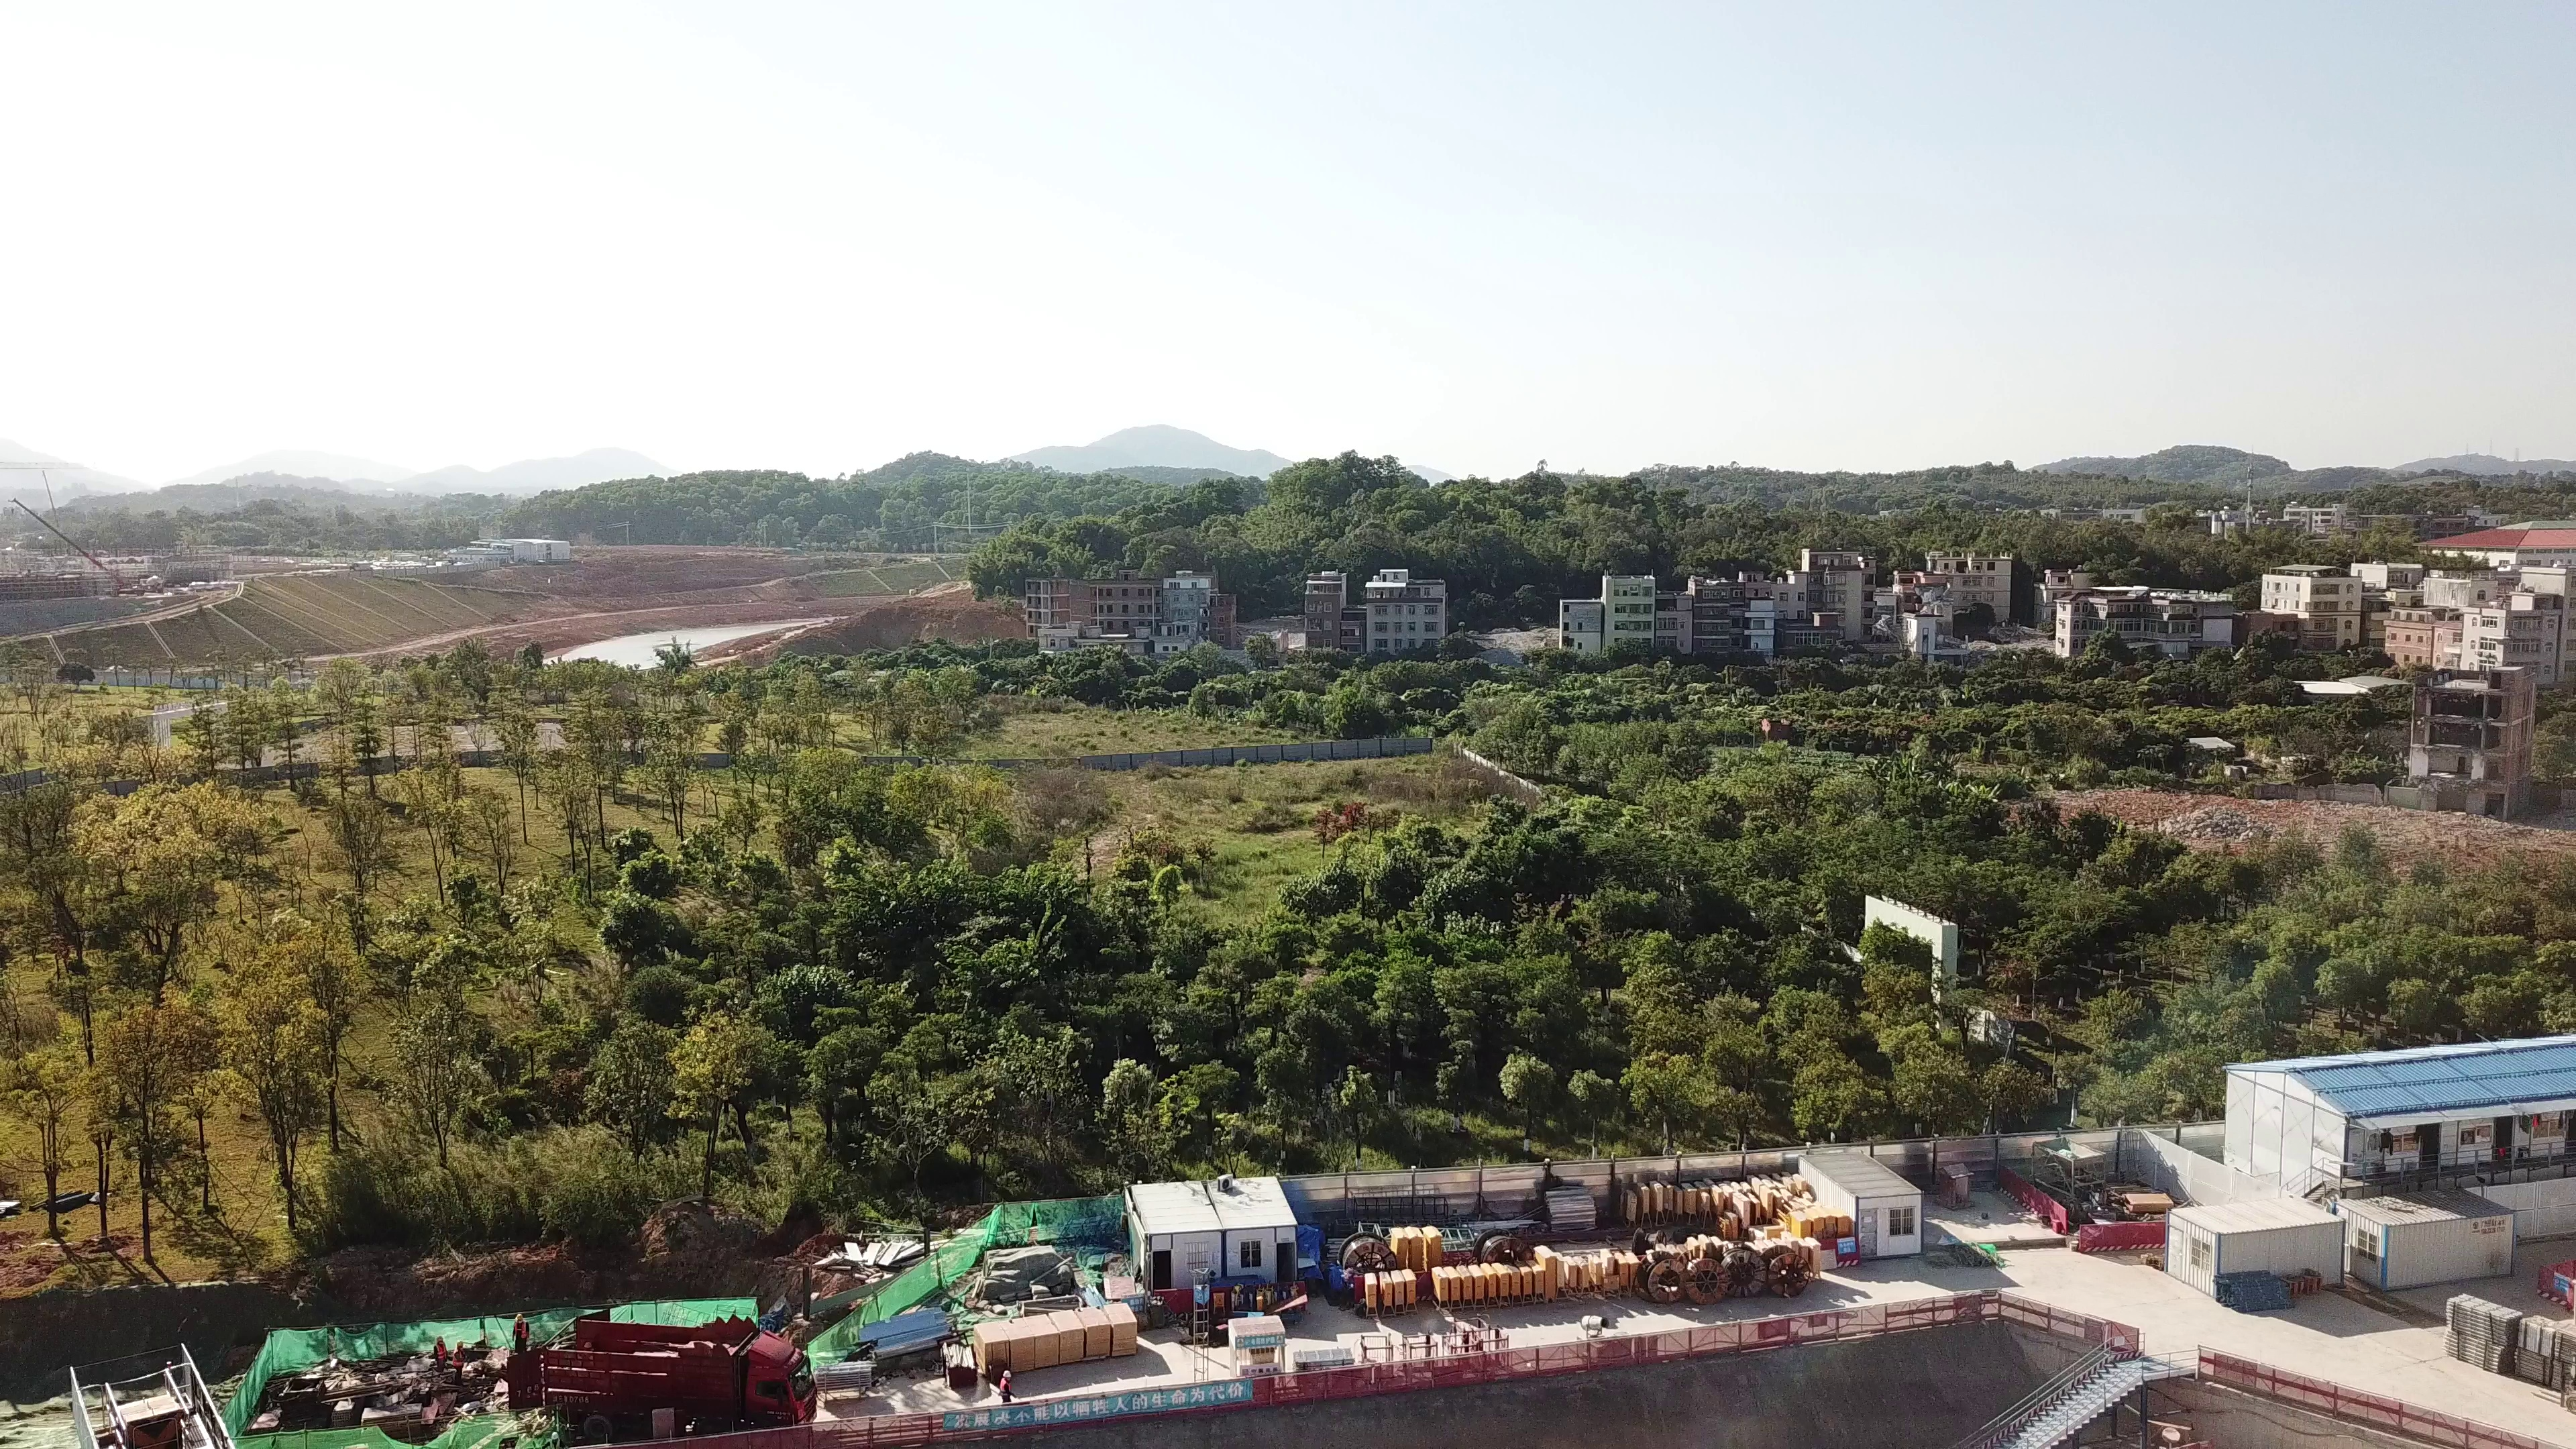helmet: (1002, 1371, 1013, 1379), (455, 1341, 466, 1350), (434, 1336, 443, 1343), (515, 1311, 522, 1320)
person: (994, 1369, 1022, 1406), (511, 1311, 529, 1357), (449, 1340, 467, 1379), (433, 1335, 449, 1369)
vest: (451, 1348, 466, 1369), (998, 1379, 1012, 1397), (514, 1322, 526, 1341), (435, 1343, 446, 1361)
